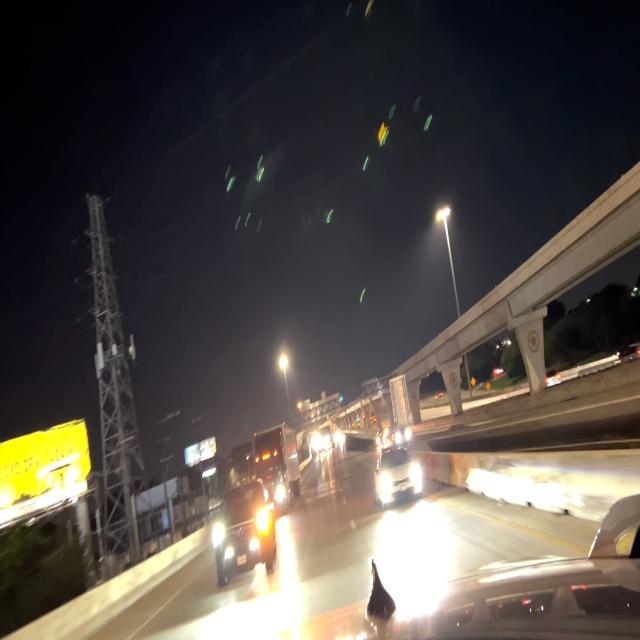back-of-sign: (299, 389, 342, 428), (389, 372, 412, 429), (358, 372, 385, 406)
